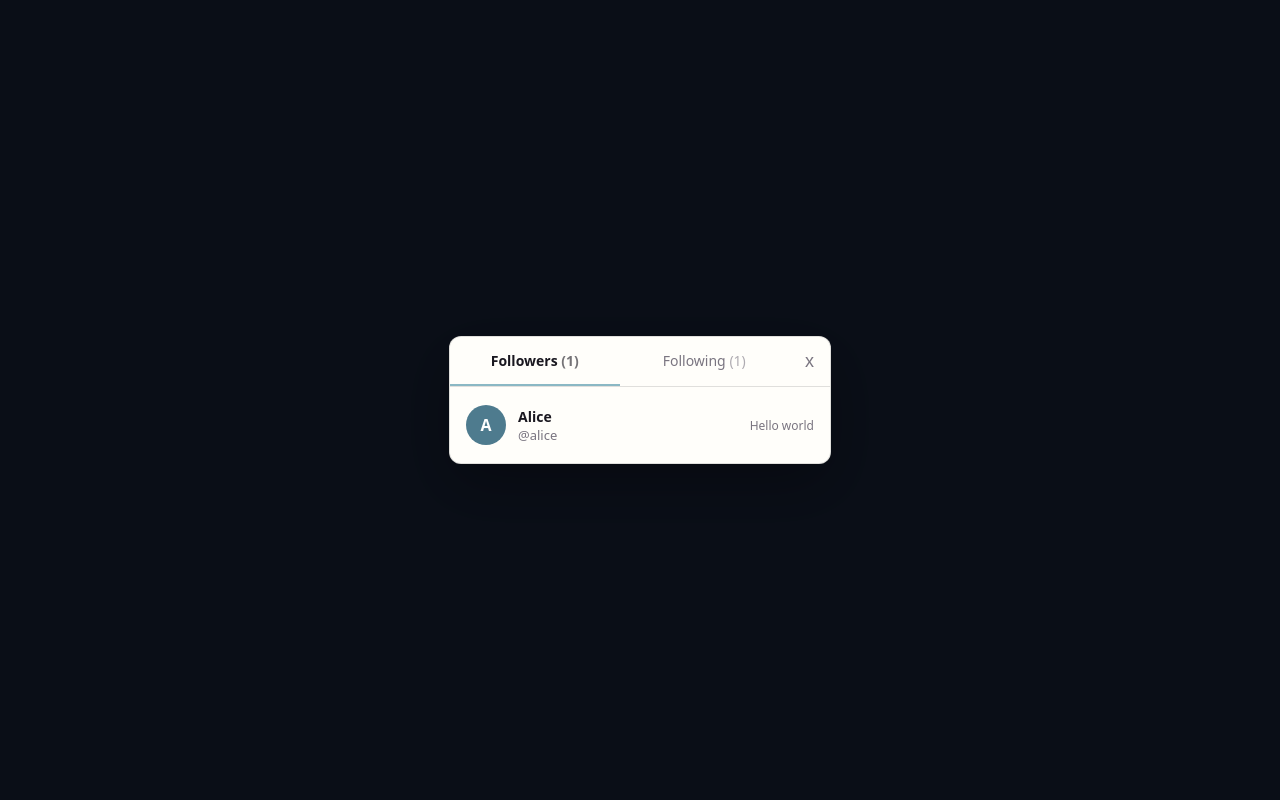
Test case: FollowersPanel › switches to following tab when clicked
Click the button with test id "tab-following". click: point(704, 362)
box: [620, 337, 789, 386]
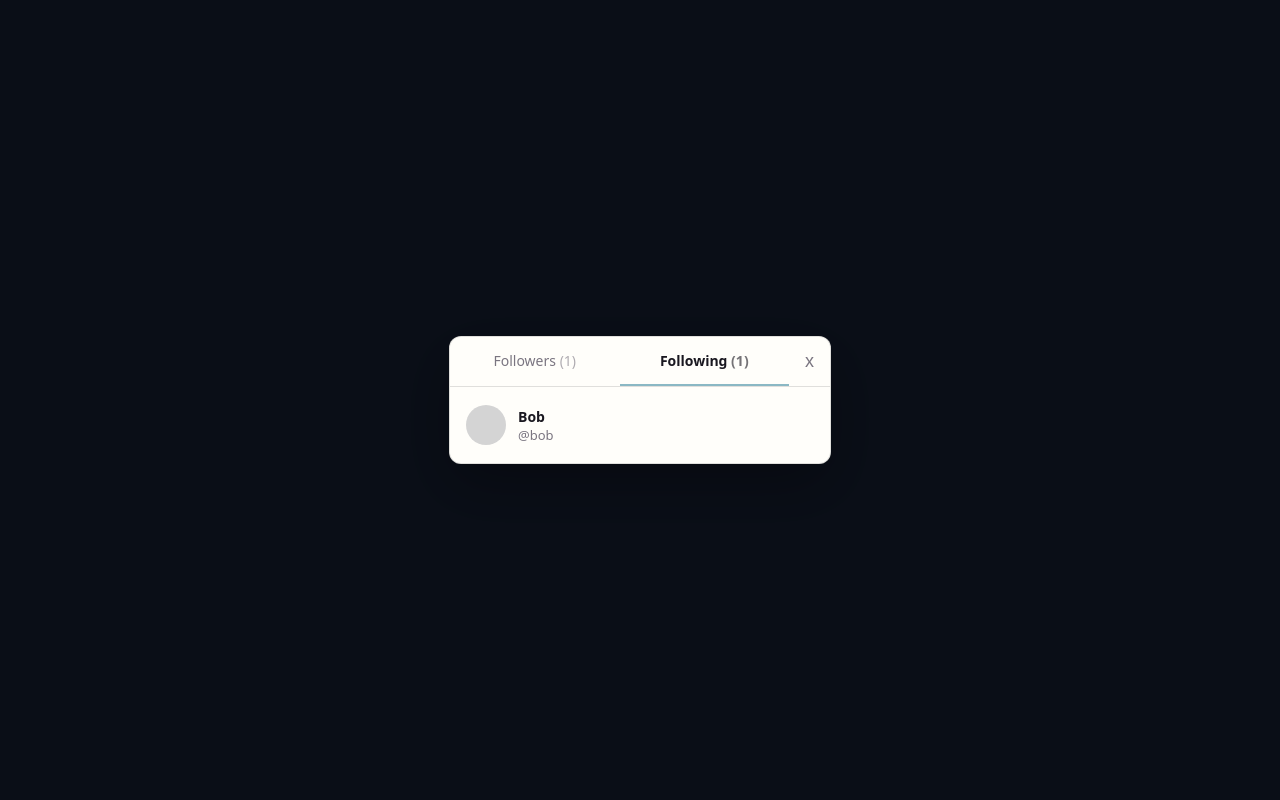
Expected: the link with test id "user-row-bob" is shown, [466, 405, 554, 445]
Expected: the text "Bob" is shown, [518, 406, 545, 426]
Expected: the text "@bob" is shown, [518, 426, 554, 444]
